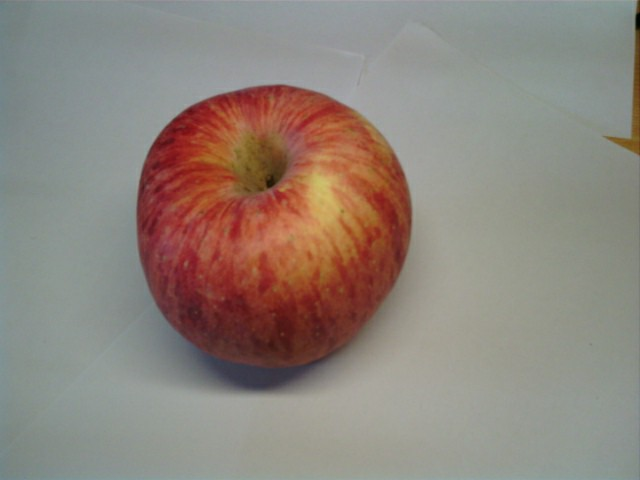normal_apple: (133, 86, 412, 373)
